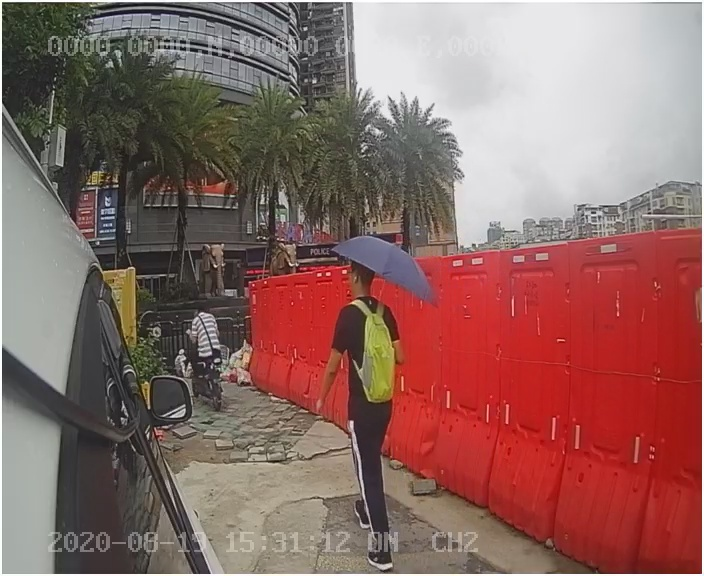person: (306, 249, 430, 570)
